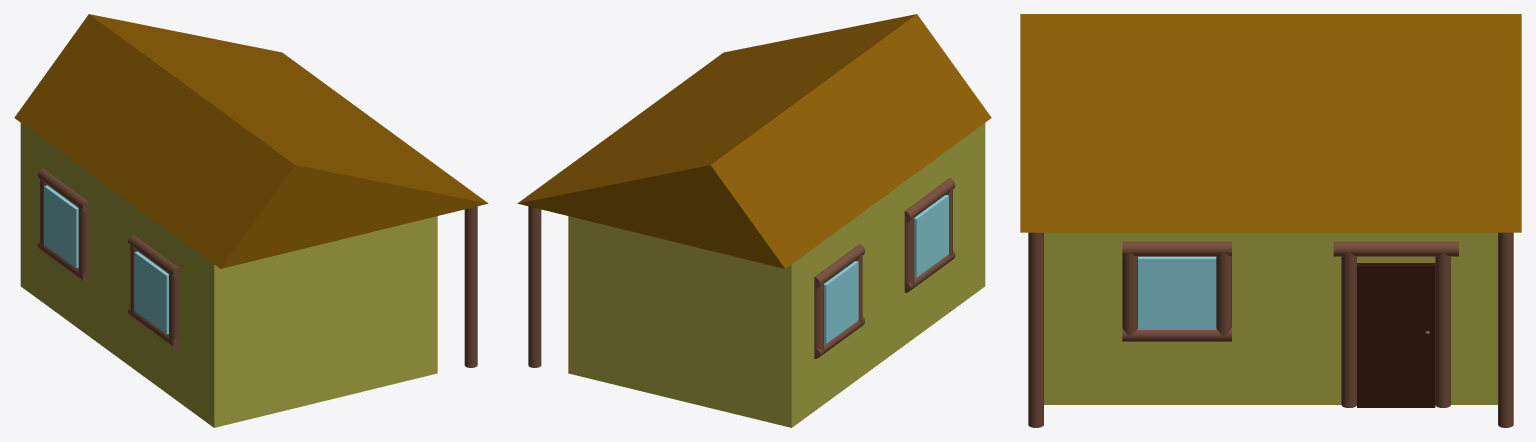
The model's file is House_3.fbx.
3 views of the same model, side by side, from view 1: azimuth 30°, elevation 25°; view 2: azimuth 150°, elevation 25°; view 3: azimuth 270°, elevation 25° (orthographic). The views are drawn at different scales.
Visible parts, largest first — view 1: Cube.001, Cube, Cylinder.001, Cube.009, Cube.010, Cylinder.030, Cylinder.026, Cylinder.017, Cylinder.015, Cylinder.029; view 2: Cube.001, Cube, Cylinder.003, Cube.010, Cube.009, Cylinder.026, Cylinder.030, Cylinder.016, Cylinder.018, Cylinder.025, Cylinder.029; view 3: Cube.001, Cube, Cube.002, Cube.007, Cylinder.001, Cylinder.003, Cylinder.004, Cylinder.005, Cylinder.006, Cylinder.023, Cylinder.009, Cylinder.021 (+1 smaller).
Part boxes in pixels (x1=…): Cube.001: x1=14, y1=14, x2=488, y2=268; Cube: x1=20, y1=123, x2=437, y2=427; Cylinder.001: x1=464, y1=206, x2=477, y2=367; Cube.009: x1=134, y1=251, x2=168, y2=334; Cube.010: x1=44, y1=185, x2=78, y2=267; Cylinder.030: x1=37, y1=168, x2=88, y2=213; Cylinder.026: x1=128, y1=234, x2=178, y2=279; Cylinder.017: x1=78, y1=206, x2=88, y2=276; Cylinder.015: x1=169, y1=272, x2=178, y2=341; Cylinder.029: x1=37, y1=241, x2=88, y2=283; Cube.001: x1=517, y1=14, x2=991, y2=268; Cube: x1=568, y1=123, x2=985, y2=427; Cylinder.003: x1=528, y1=206, x2=541, y2=367; Cube.010: x1=824, y1=261, x2=858, y2=343; Cube.009: x1=914, y1=195, x2=948, y2=277; Cylinder.026: x1=904, y1=178, x2=955, y2=222; Cylinder.030: x1=814, y1=244, x2=864, y2=288; Cylinder.016: x1=904, y1=216, x2=914, y2=285; Cylinder.018: x1=814, y1=282, x2=823, y2=351; Cylinder.025: x1=904, y1=250, x2=955, y2=292; Cylinder.029: x1=814, y1=316, x2=864, y2=358; Cube.001: x1=1020, y1=14, x2=1521, y2=232; Cube: x1=1044, y1=232, x2=1497, y2=404; Cube.002: x1=1357, y1=263, x2=1435, y2=407; Cube.007: x1=1138, y1=256, x2=1216, y2=329; Cylinder.001: x1=1028, y1=232, x2=1043, y2=427; Cylinder.003: x1=1498, y1=232, x2=1513, y2=427; Cylinder.004: x1=1435, y1=252, x2=1450, y2=407; Cylinder.005: x1=1341, y1=252, x2=1356, y2=407; Cylinder.006: x1=1333, y1=241, x2=1458, y2=256; Cylinder.023: x1=1122, y1=241, x2=1231, y2=256; Cylinder.009: x1=1122, y1=252, x2=1137, y2=336; Cylinder.021: x1=1216, y1=252, x2=1231, y2=336.
Size of the model in its own units: 2450 by 2133 by 3200.
